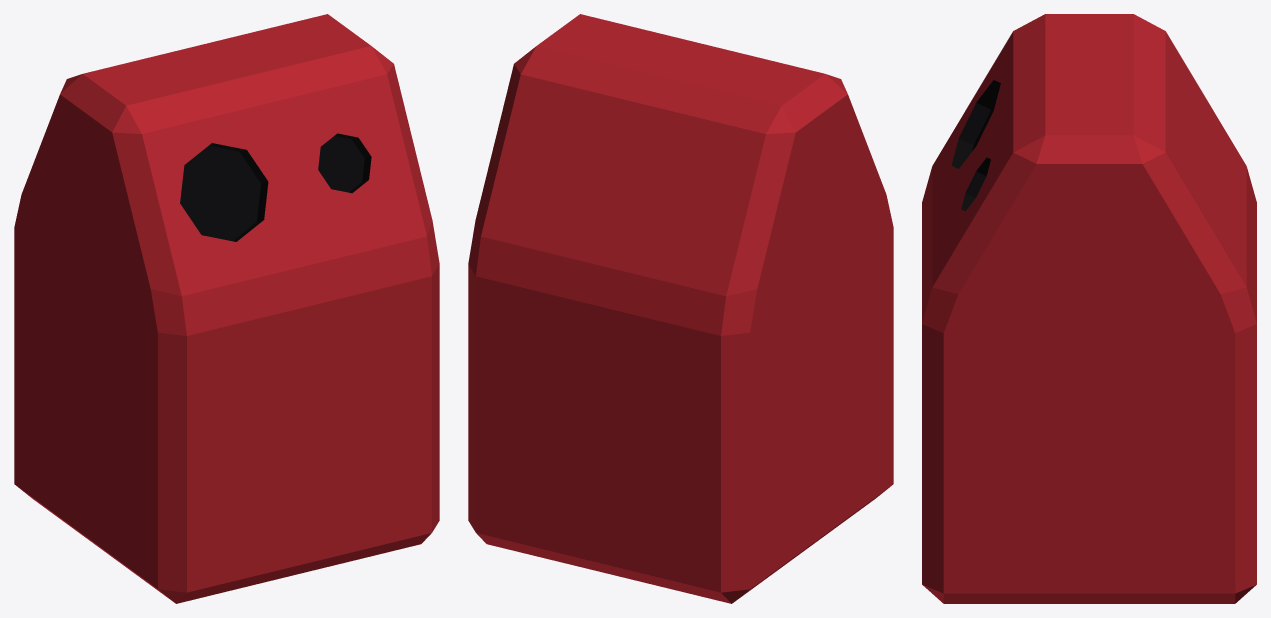
Rendered from RecycleCan.fbx.
3 renders of one model, left to right at view 1: azimuth 30°, elevation 25°; view 2: azimuth 150°, elevation 25°; view 3: azimuth 270°, elevation 25°, orthographic.
Visible parts, largest first — view 1: RecycleCan; view 2: RecycleCan; view 3: RecycleCan.
Part boxes in pixels (box(x1,y1,x2,y2)): RecycleCan: box(14, 14, 439, 603); RecycleCan: box(468, 14, 893, 603); RecycleCan: box(922, 14, 1256, 603).
Bounding box in the file's own units: 200 × 313 × 203.
